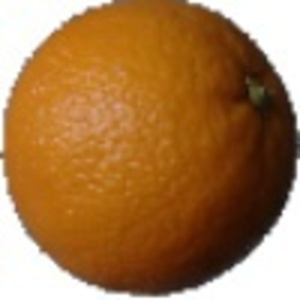laranja: (1, 3, 298, 297)
